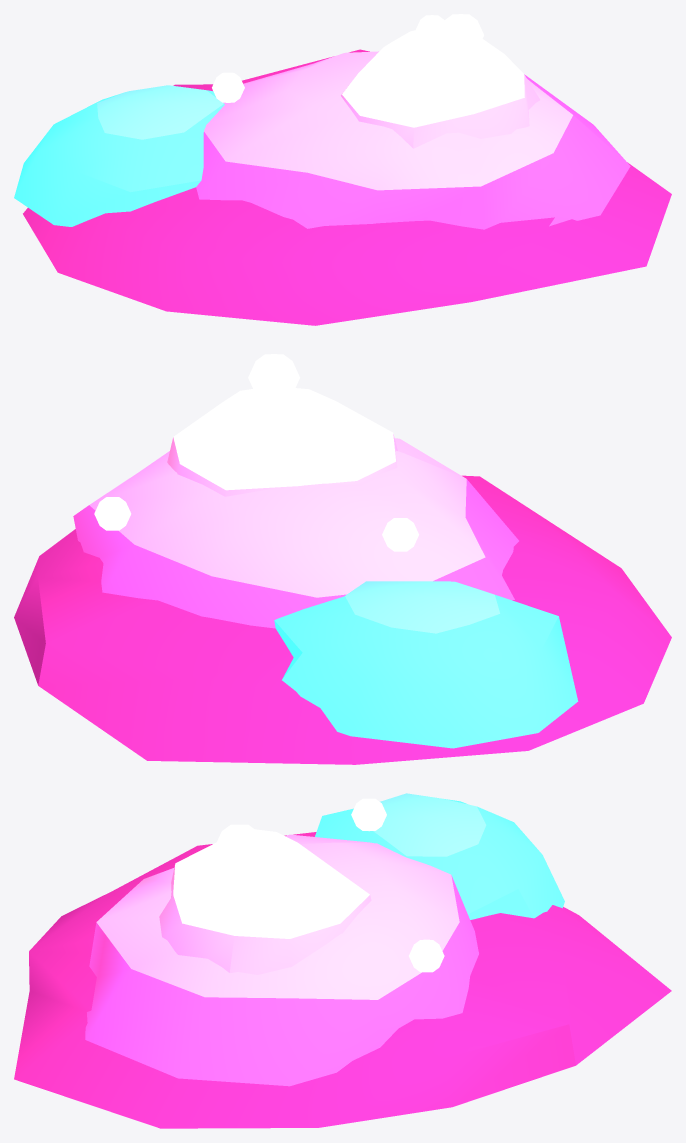
File: emission_nebula.glb
The picture shows the model from 3 angles, top to bottom: view 1: azimuth 30°, elevation 25°; view 2: azimuth 150°, elevation 25°; view 3: azimuth 270°, elevation 25°; orthographic projection. The views are drawn at different scales.
Parts seen in each view (by area): view 1: body; view 2: body; view 3: body.
Boxes of the visible parts, left/top/right/bottom form: body: left=14, top=14, right=671, bottom=325; body: left=14, top=354, right=671, bottom=764; body: left=14, top=793, right=671, bottom=1128.
Size of the model in its own units: 188 by 65 by 183.
